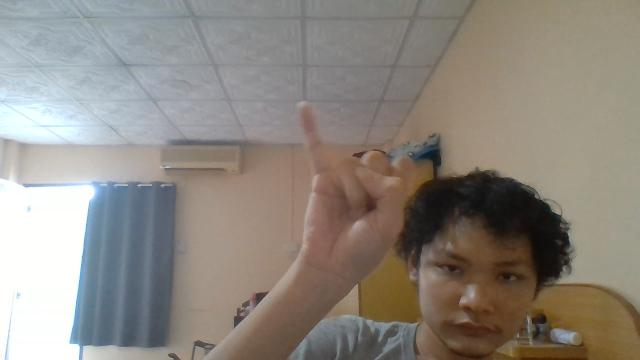Right: (294, 100, 416, 288)
